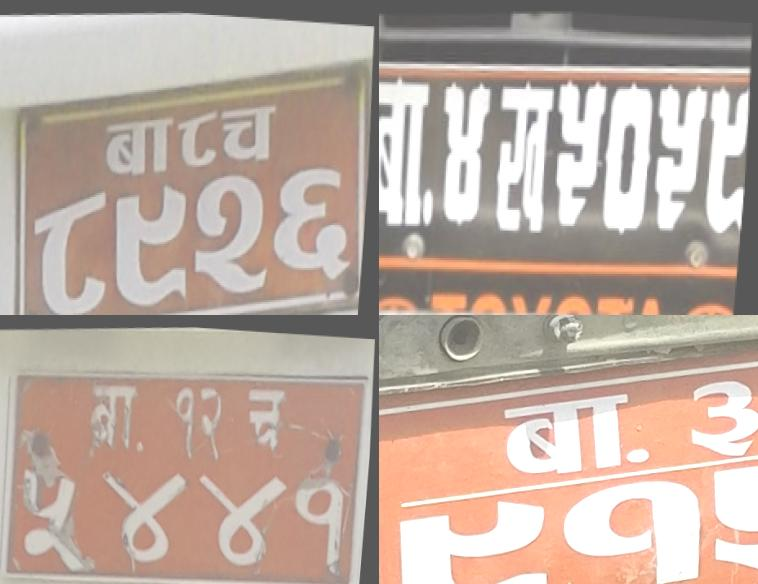0: (599, 71, 663, 233)
1: (559, 463, 726, 584), (288, 463, 356, 577), (164, 376, 204, 462)
2: (187, 161, 284, 304), (193, 377, 232, 464)
3: (681, 369, 758, 455)
4: (426, 69, 503, 237), (192, 456, 296, 576), (98, 457, 194, 569)
5: (546, 70, 616, 236), (646, 68, 714, 235), (13, 460, 105, 582), (702, 440, 758, 584)
6: (270, 151, 364, 289)
8: (22, 176, 120, 315), (175, 102, 224, 169)
9: (397, 486, 575, 584), (107, 172, 202, 314), (696, 69, 754, 240)
ba: (498, 377, 668, 484), (379, 69, 450, 241), (98, 106, 180, 184), (84, 373, 144, 460)
cha: (217, 94, 284, 165), (239, 376, 291, 457)
kha: (487, 70, 565, 240)
